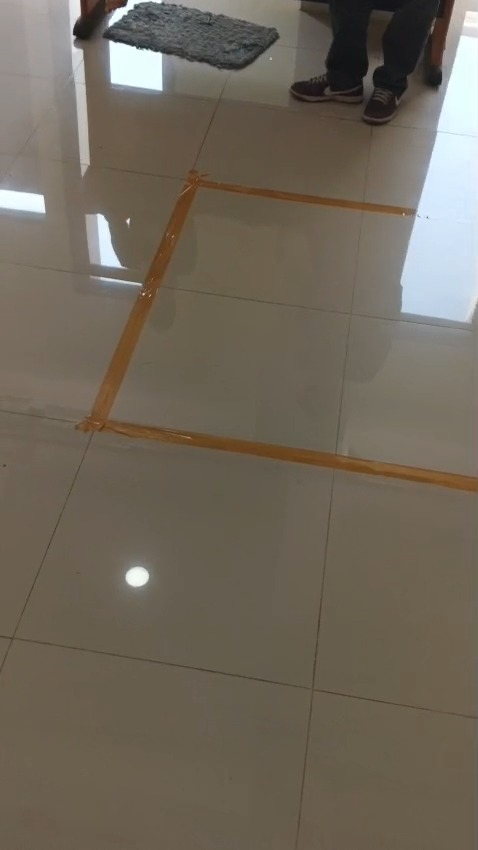floor marking: (76, 170, 477, 492)
